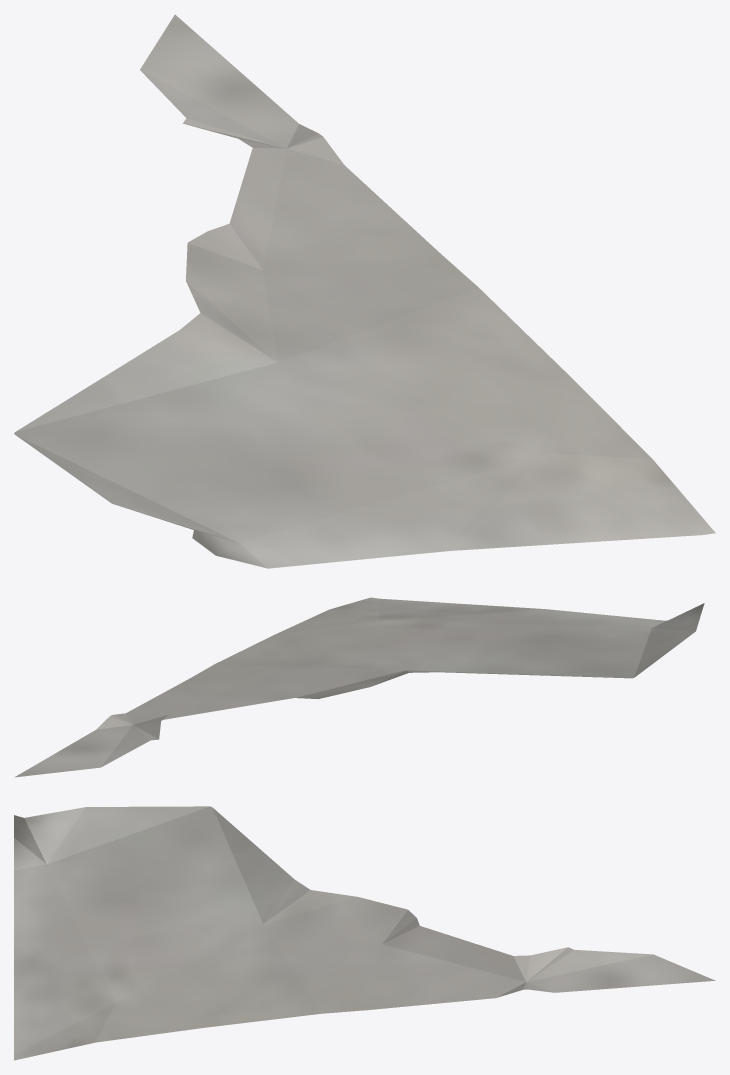
3 views of the same model, one above another, from view 1: azimuth 30°, elevation 25°; view 2: azimuth 150°, elevation 25°; view 3: azimuth 270°, elevation 25° (orthographic). The views are drawn at different scales.
Bounding box in the file's own units: 0.3163 × 0.0675 × 0.538.
Materials: 1 (1 with a texture image).
